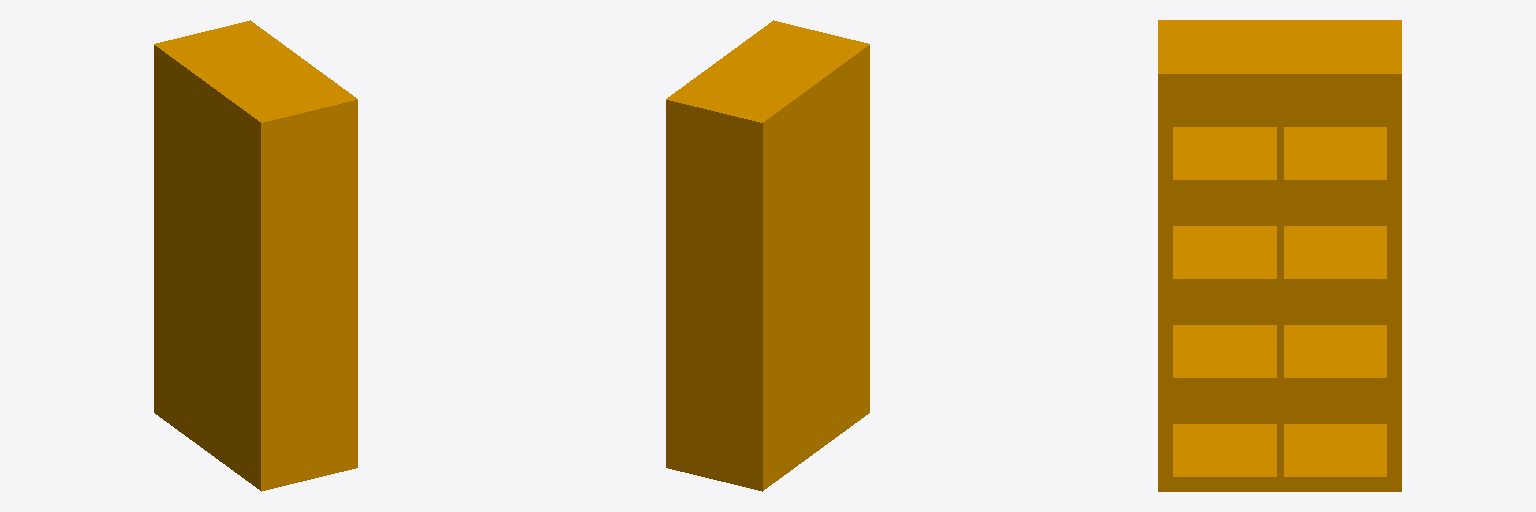
robot.urdf — my_object:
<?xml version="1.0" ?> 
<robot name="my_object" static="true">
  <link name="base_link">
  <inertial>
    <mass value="1.0" />
    <origin xyz="0 0 0.0" />
    <inertia ixx="1.0" ixy="0.0" ixz="0.0" iyy="1.0" iyz="0.0" izz="1.0"/>
  </inertial>
  <visual>
   <origin xyz="0 0 0.0" rpy="0 0 0" />
   <geometry>
     <mesh filename="package://cob_gazebo_objects/Media/models/expedit_white_ikea_shelf.dae"/>
   </geometry>
  </visual>
  <collision>
   <origin xyz="0 0 0.745" rpy="0 0 0" />
   <geometry>
     <box size="0.41 0.79 1.49" />
   </geometry>
  </collision>     
  </link>

<gazebo>
	<static>true</static>
</gazebo>
</robot>

--- Render facts (derived) ---
Views: 3 orthographic renders of the robot side by side, from view 1: azimuth 30°, elevation 25°; view 2: azimuth 150°, elevation 25°; view 3: azimuth 270°, elevation 25°.
Model my_object with 1 links and 0 joints (none), rooted at base_link, posed all joints at 0.
Visible links, largest first — view 1: base_link; view 2: base_link; view 3: base_link.
Link boxes in pixels (x1,y1,x2,y2): base_link: (154, 20, 357, 491); base_link: (666, 20, 869, 491); base_link: (1158, 20, 1401, 491).
Bounding box of the posed robot: 0.0104 × 0.02 × 0.0377 m (x, y, z).
Meshes: 1 distinct files referenced, 1 mesh visuals loaded (1 Collada DAE).